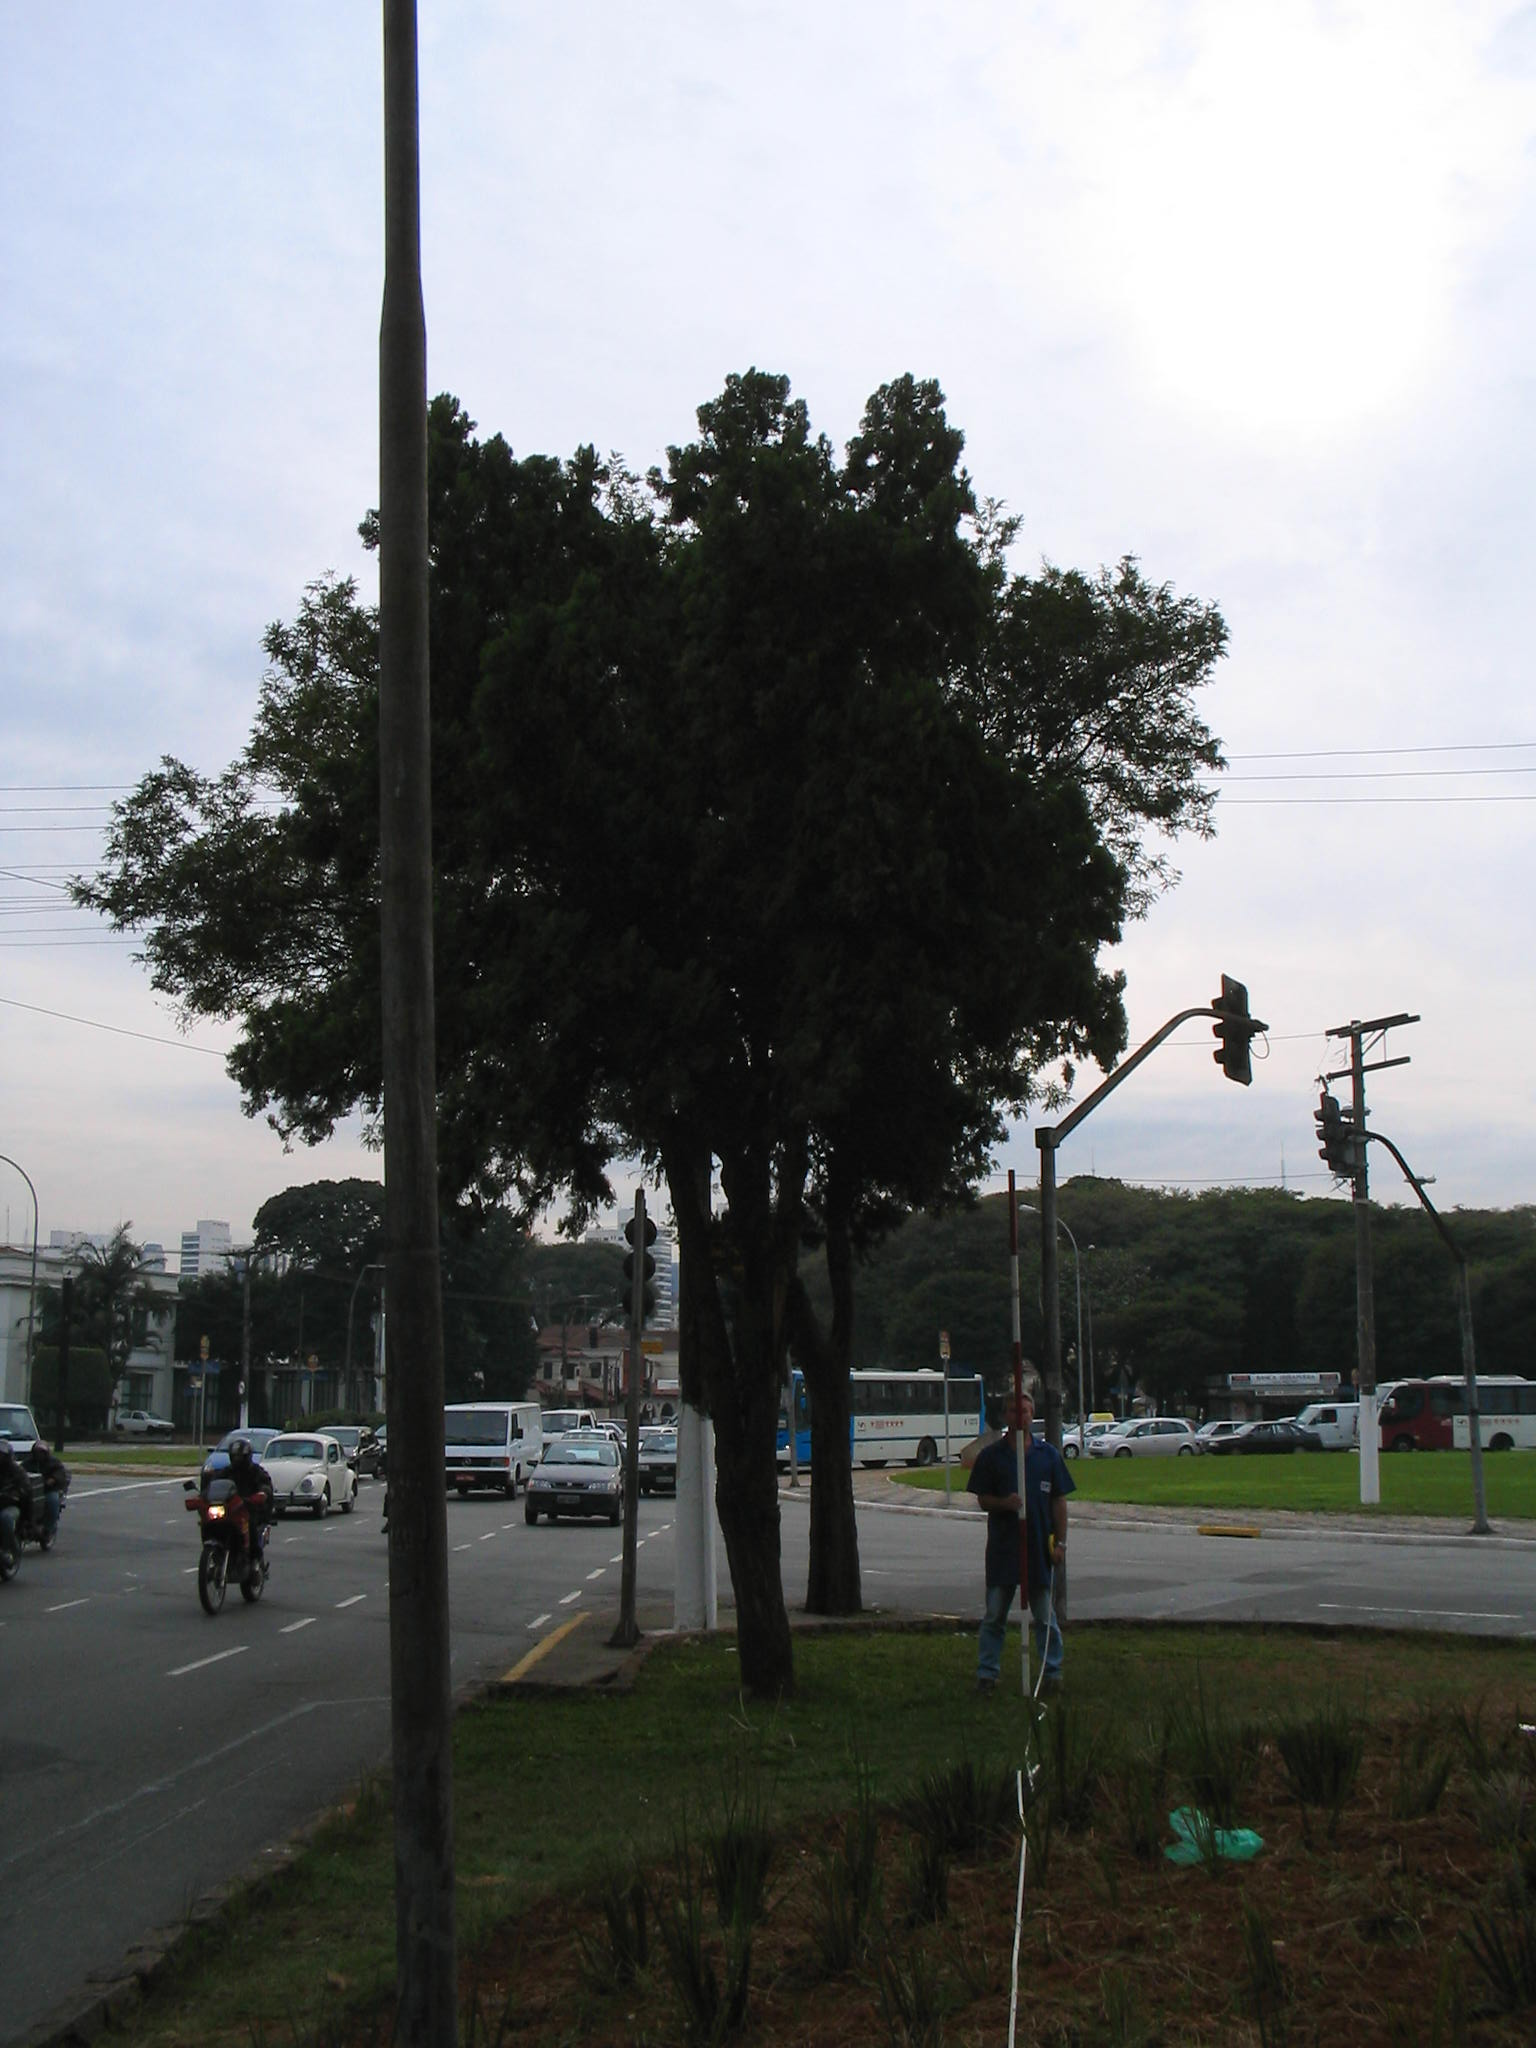crown: (74, 371, 1228, 1271)
stem: (678, 1408, 807, 1696), (794, 1358, 889, 1619)
stick: (995, 1171, 1052, 1700)
tree: (68, 366, 1239, 1703)
